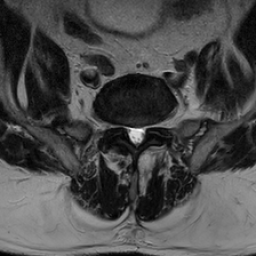CCS_normal: (132, 117, 139, 153)
LFS_severe_stenosis: (148, 117, 155, 136)
LLS_normal: (139, 120, 147, 141)
RFS_severe_stenosis: (118, 116, 126, 137)
RLS_stenosis: (126, 120, 133, 142)
